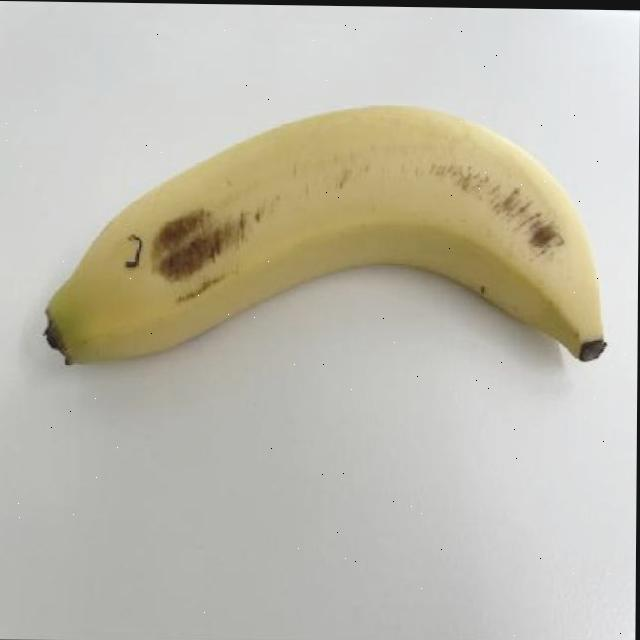banana: (36, 95, 612, 381)
